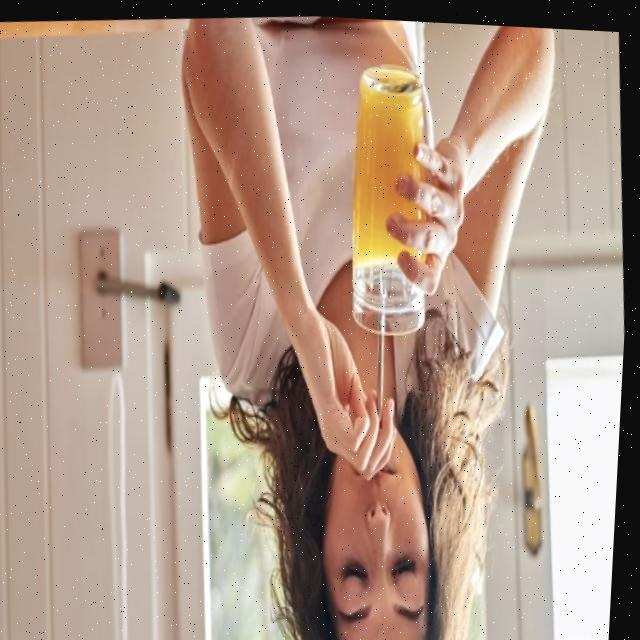eating-person: (150, 7, 607, 640)
